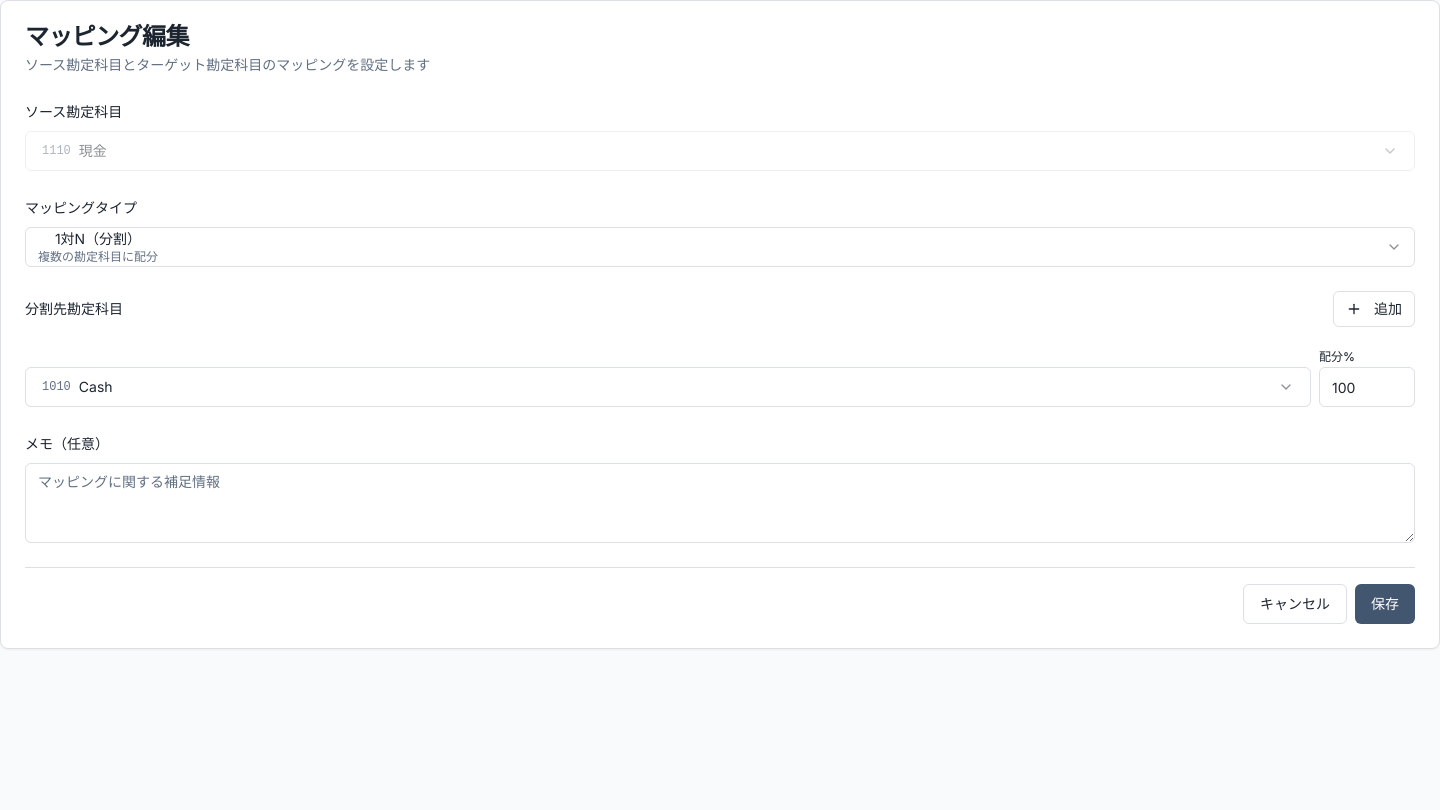
Test case: conversion/mapping-editor — 1toN split mapping › disables save when any split row has no target item even if the sum is 100
Check: the button "保存" is enabled, box [1355,584,1415,624]
Click the button "追加". click: (1374, 309)
box: [1333,291,1415,327]
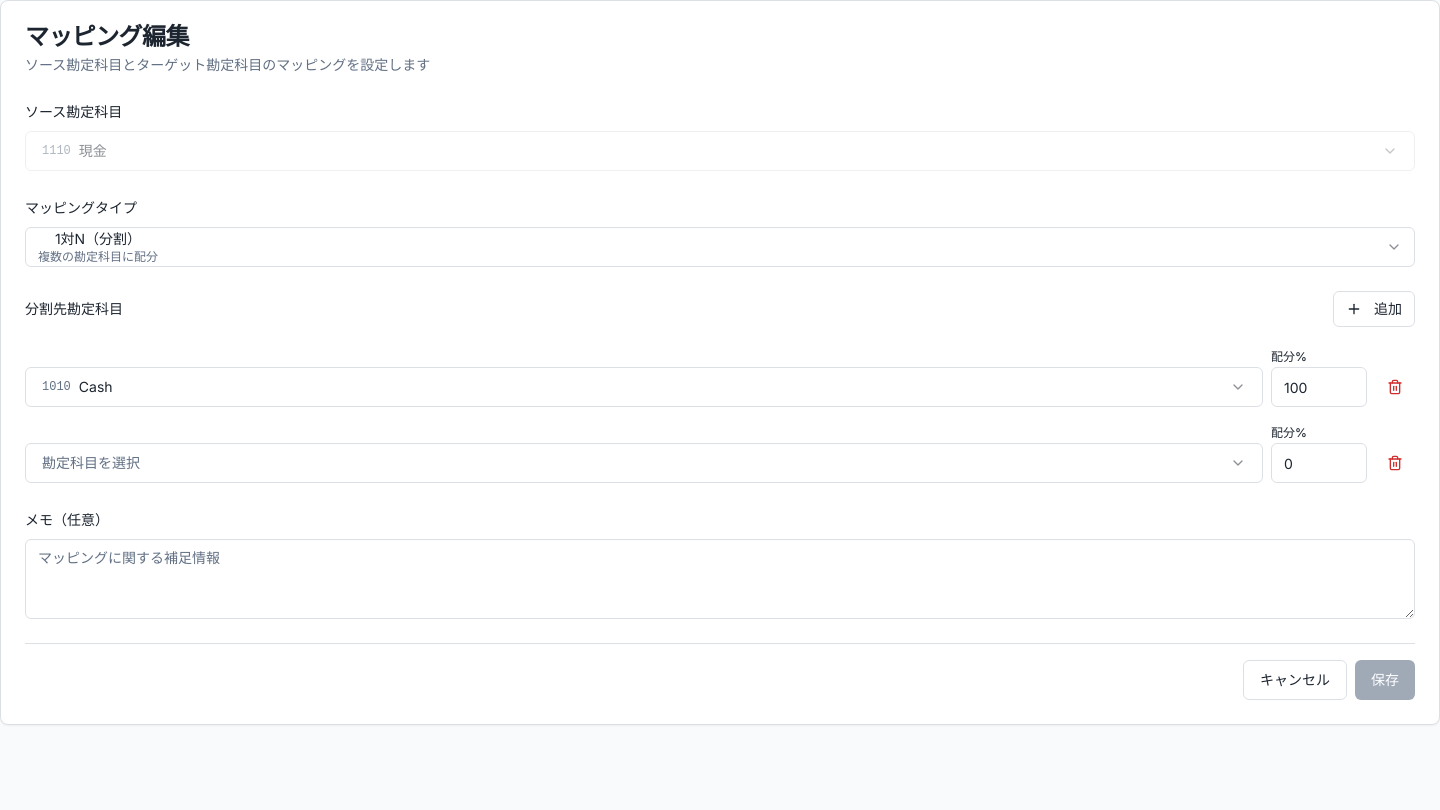
Check: the button "保存" is disabled, box [1355,660,1415,700]
